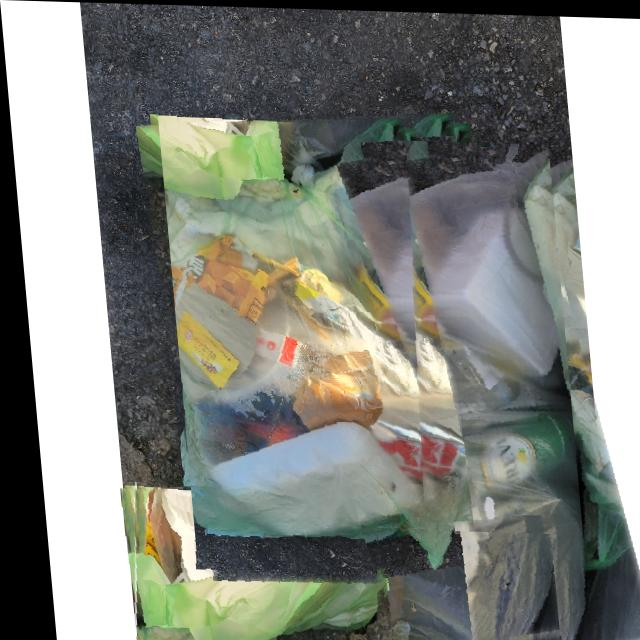general_trashbag: (164, 114, 480, 563), (123, 490, 373, 640)
other_trashbag: (403, 142, 575, 640), (366, 527, 548, 640)
